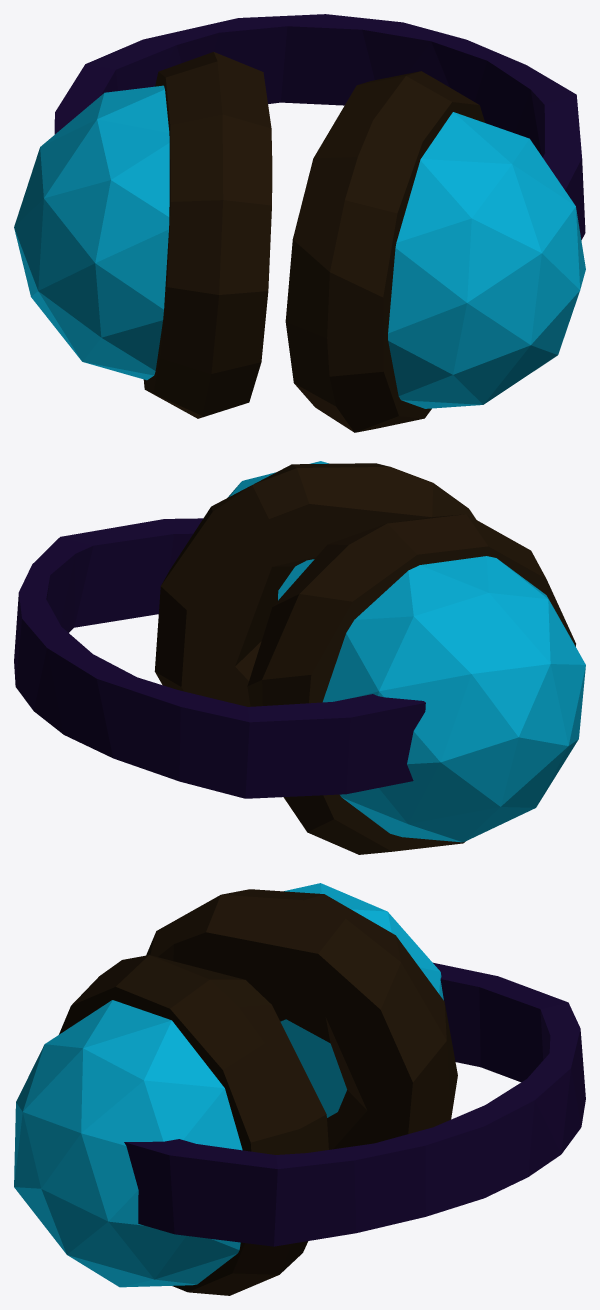
The model's file is headphones.fbx.
3 views of the same model, one above another, from view 1: azimuth 30°, elevation 25°; view 2: azimuth 150°, elevation 25°; view 3: azimuth 270°, elevation 25° (orthographic). The views are drawn at different scales.
Visible parts, largest first — view 1: Icosphere.001; view 2: Icosphere.001; view 3: Icosphere.001.
Part boxes in pixels (x1,y1,x2,y2): Icosphere.001: (14, 14, 585, 432); Icosphere.001: (14, 461, 585, 854); Icosphere.001: (14, 883, 585, 1295).
Bounding box in the file's own units: 90.71 × 55.31 × 87.11.
